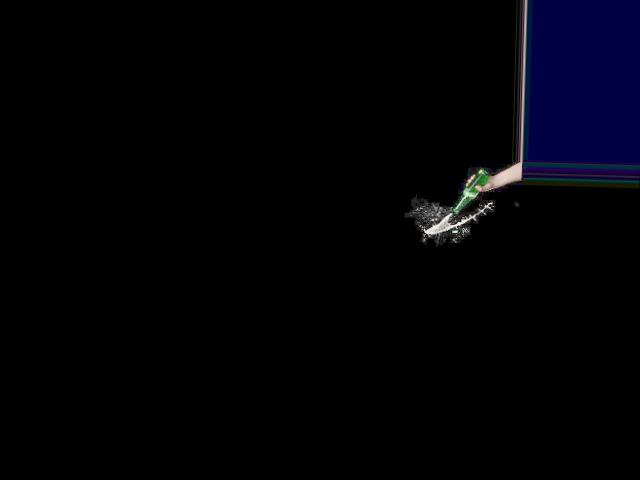beer: (452, 167, 490, 213)
